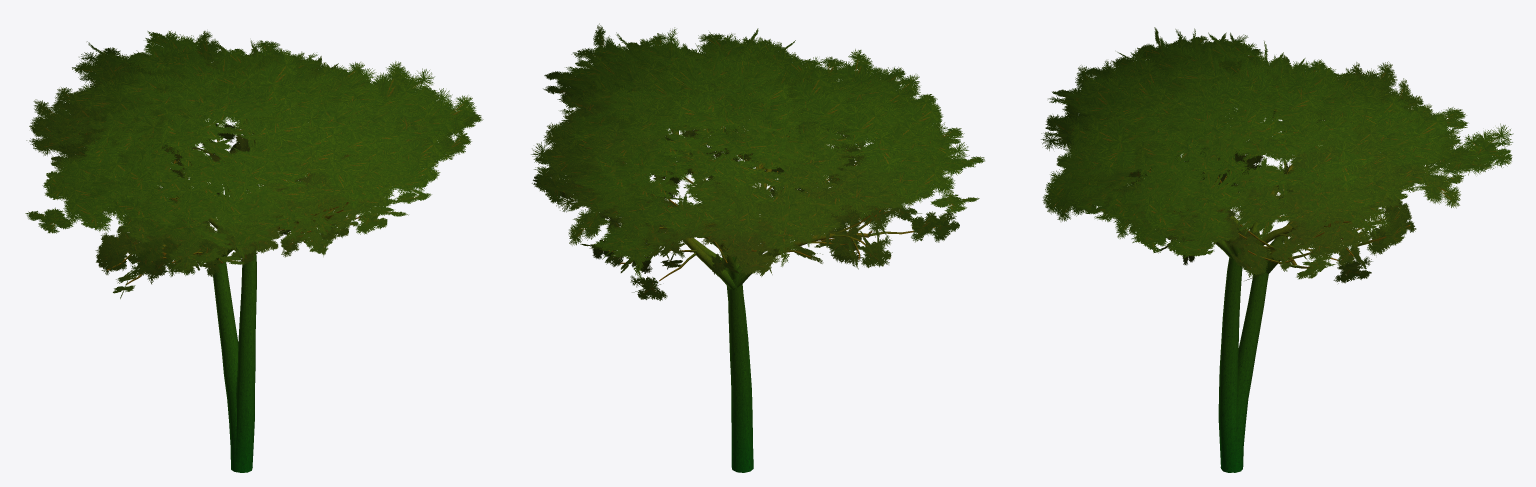
Rendered from sosna.glb.
3 views of the same model, side by side, from view 1: azimuth 30°, elevation 25°; view 2: azimuth 150°, elevation 25°; view 3: azimuth 270°, elevation 25° (orthographic).
Parts seen in each view (by area): view 1: sosna_02_LOD0, sosna_01_LOD0; view 2: sosna_01_LOD0, sosna_02_LOD0; view 3: sosna_02_LOD0, sosna_01_LOD0.
Part boxes in pixels (x1,y1,x2,y2): sosna_02_LOD0: (56,31,483,472); sosna_01_LOD0: (25,30,465,472); sosna_01_LOD0: (531,39,984,472); sosna_02_LOD0: (543,23,964,440); sosna_02_LOD0: (1041,27,1469,472); sosna_01_LOD0: (1054,32,1513,472).
Size of what is drawn, in the model's own units: 16.11 by 13.62 by 15.28.
Materials: 2 (2 with a texture image).
